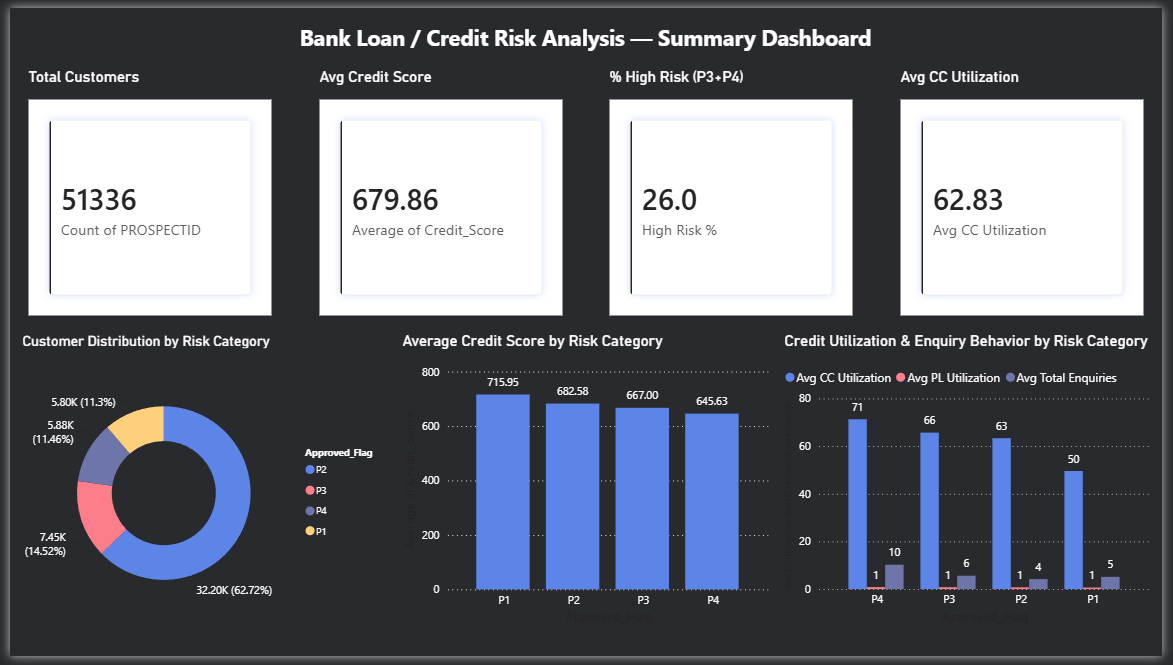

What the dashboard file says about the page in this screenshot:
{"tool":"powerbi","page":{"name":"Summary","canvas":[1280,720],"ordinal":0},"visuals":[{"type":"cardVisual","title":"Total Customers","fields":{"Data":["CountNonNull(credit_risk_analysis external_cibil_data.PROSPECTID)"]},"box":[16,67,280,280],"z":0},{"type":"cardVisual","title":"Avg Credit Score","fields":{"Data":["Avg(credit_risk_analysis external_cibil_data.Credit_Score)"]},"box":[338.7,67,280,280],"z":1000},{"type":"cardVisual","title":"% High Risk (P3+P4)","fields":{"Data":["credit_risk_analysis external_cibil_data.High Risk %"]},"box":[661.3,67,280,280],"z":2000},{"type":"cardVisual","title":"Avg CC Utilization","fields":{"Data":["credit_risk_analysis external_cibil_data.Avg CC Utilization"]},"box":[984,67,280,280],"z":3000},{"type":"donutChart","title":"Customer Distribution by Risk Category","fields":{"Category":["credit_risk_analysis external_cibil_data.Approved_Flag"],"Y":["CountNonNull(credit_risk_analysis external_cibil_data.PROSPECTID)"]},"box":[9,360,416,329],"z":4000},{"type":"clusteredColumnChart","title":"Average Credit Score by Risk Category","fields":{"Category":["credit_risk_analysis external_cibil_data.Approved_Flag"],"Y":["Avg(credit_risk_analysis external_cibil_data.Credit_Score)"]},"box":[431,360,417,329],"z":5000},{"type":"clusteredColumnChart","title":"Credit Utilization & Enquiry Behavior by Risk Category","fields":{"Category":["credit_risk_analysis external_cibil_data.Approved_Flag"],"Y":["credit_risk_analysis external_cibil_data.Avg CC Utilization","credit_risk_analysis external_cibil_data.Avg PL Utilization","credit_risk_analysis external_cibil_data.Avg Total Enquiries"]},"box":[855,360,417,329],"z":6000},{"type":"textbox","box":[306,11,668,46],"z":7000}]}

Visuals, with their boxes in screenshot pixels (x1, y1, x2, y2), scaled from the page's 1280x720 canvas onto the 1173x665 screenshot:
"Total Customers" cardVisual: rect(15, 62, 271, 320)
"Avg Credit Score" cardVisual: rect(310, 62, 567, 320)
"% High Risk (P3+P4)" cardVisual: rect(606, 62, 863, 320)
"Avg CC Utilization" cardVisual: rect(902, 62, 1158, 320)
"Customer Distribution by Risk Category" donutChart: rect(8, 332, 389, 636)
"Average Credit Score by Risk Category" clusteredColumnChart: rect(395, 332, 777, 636)
"Credit Utilization & Enquiry Behavior by Risk Category" clusteredColumnChart: rect(784, 332, 1166, 636)
textbox: rect(280, 10, 893, 53)
